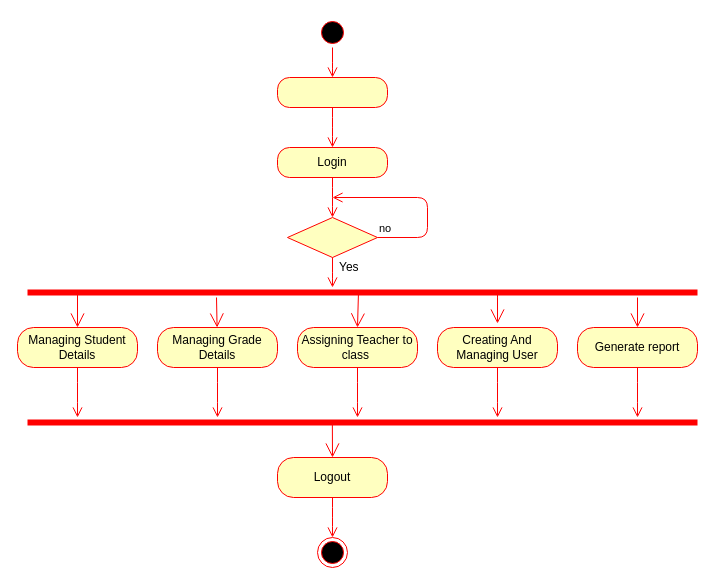
Image size: 718x585. Some labels were removed from this diagram. The box of each missing label's shape, as (x1, y1, x2, y2) in pixels:
Start: (276, 76, 388, 108)
valid: (286, 216, 378, 258)
